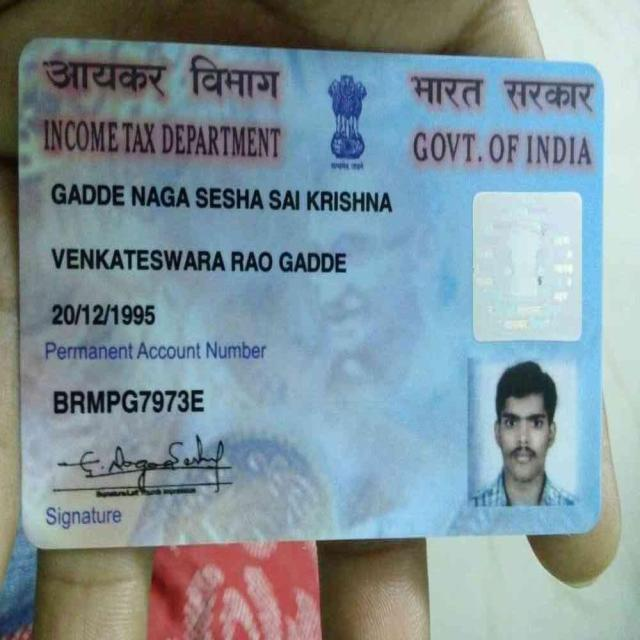pan_card: (22, 48, 599, 544)
